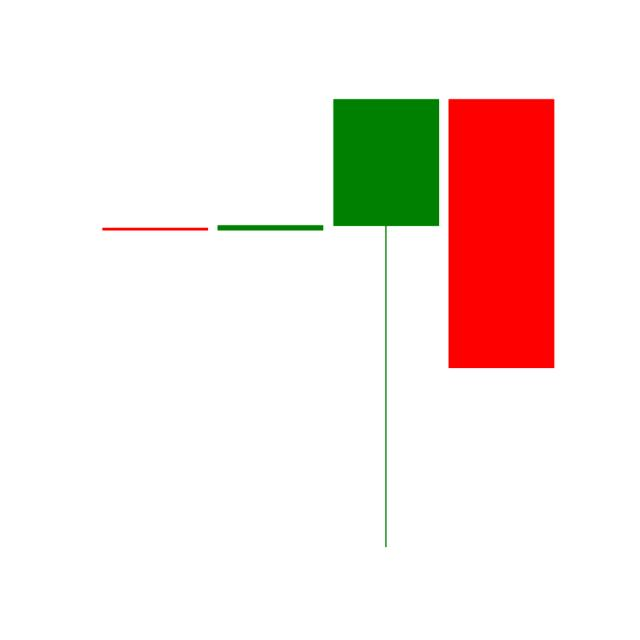Four price doji: (217, 223, 326, 234), (104, 226, 210, 231)
